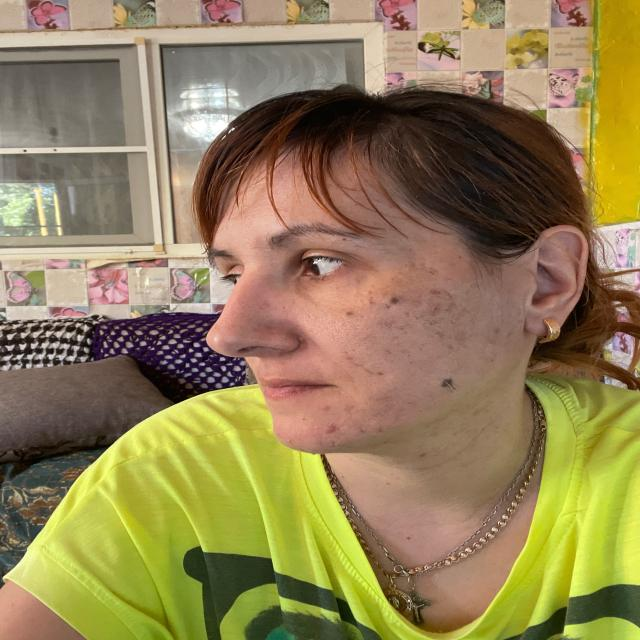Acne: (402, 260, 440, 276), (374, 316, 407, 332), (457, 329, 471, 349), (442, 300, 460, 315), (440, 286, 456, 300), (416, 316, 440, 325), (340, 349, 356, 362), (323, 423, 339, 435), (318, 402, 334, 414), (427, 302, 442, 314), (427, 288, 445, 296), (490, 324, 502, 336), (400, 309, 414, 319), (441, 344, 454, 354), (434, 331, 446, 340)
Blackheads: (233, 299, 250, 322)
Englarged-Pores: (294, 309, 372, 343)
Wrinkles: (338, 365, 360, 393)
